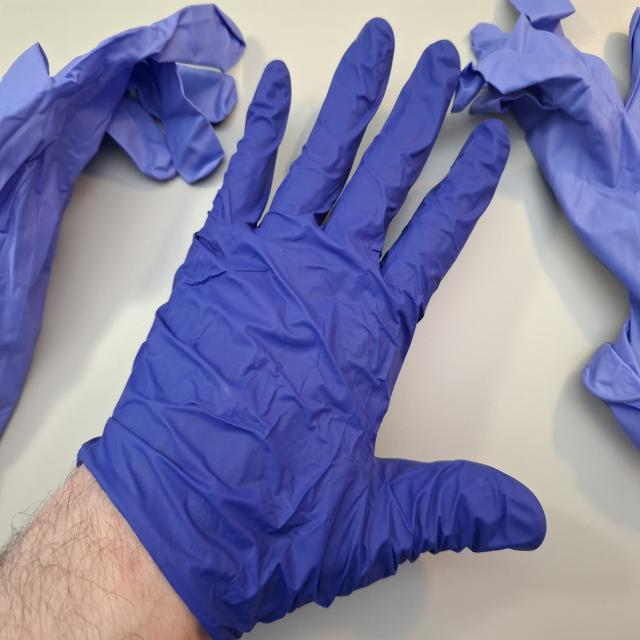glove_on: (72, 13, 551, 635)
